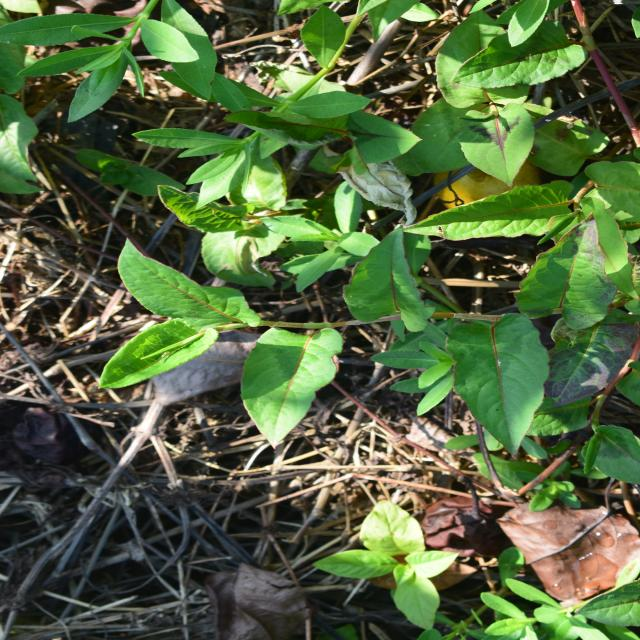Chinese_knotweed: (217, 89, 412, 462)
